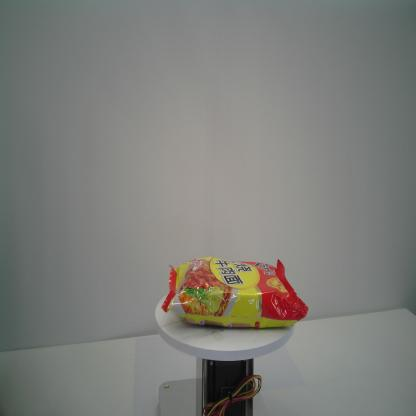Instant Noodles: (160, 254, 310, 330)
